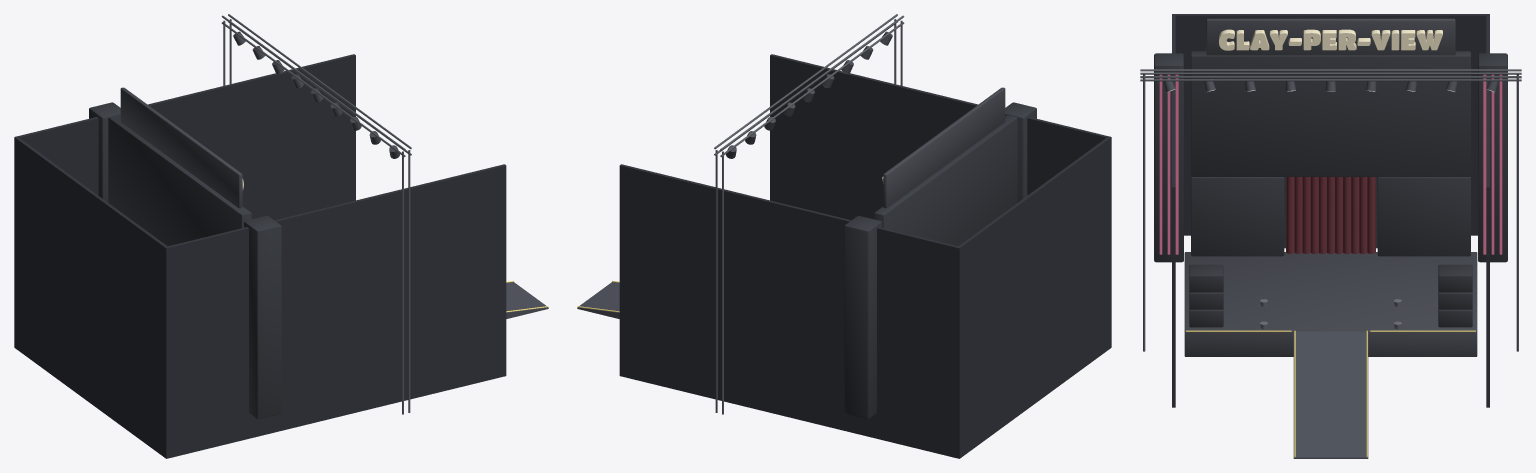
The model's file is SM_Stage.glb.
The picture shows the model from 3 angles, left to right: view 1: azimuth 30°, elevation 25°; view 2: azimuth 150°, elevation 25°; view 3: azimuth 270°, elevation 25°; orthographic projection. The views are drawn at different scales.
Parts seen in each view (by area): view 1: SM_Stage; view 2: SM_Stage; view 3: SM_Stage.
Boxes of the visible parts, x1,y1,x2,y2 form: SM_Stage: (14, 14, 548, 458); SM_Stage: (577, 14, 1111, 458); SM_Stage: (1140, 14, 1521, 458).
Size of the model in its own units: 17.08 by 9.88 by 12.24.
